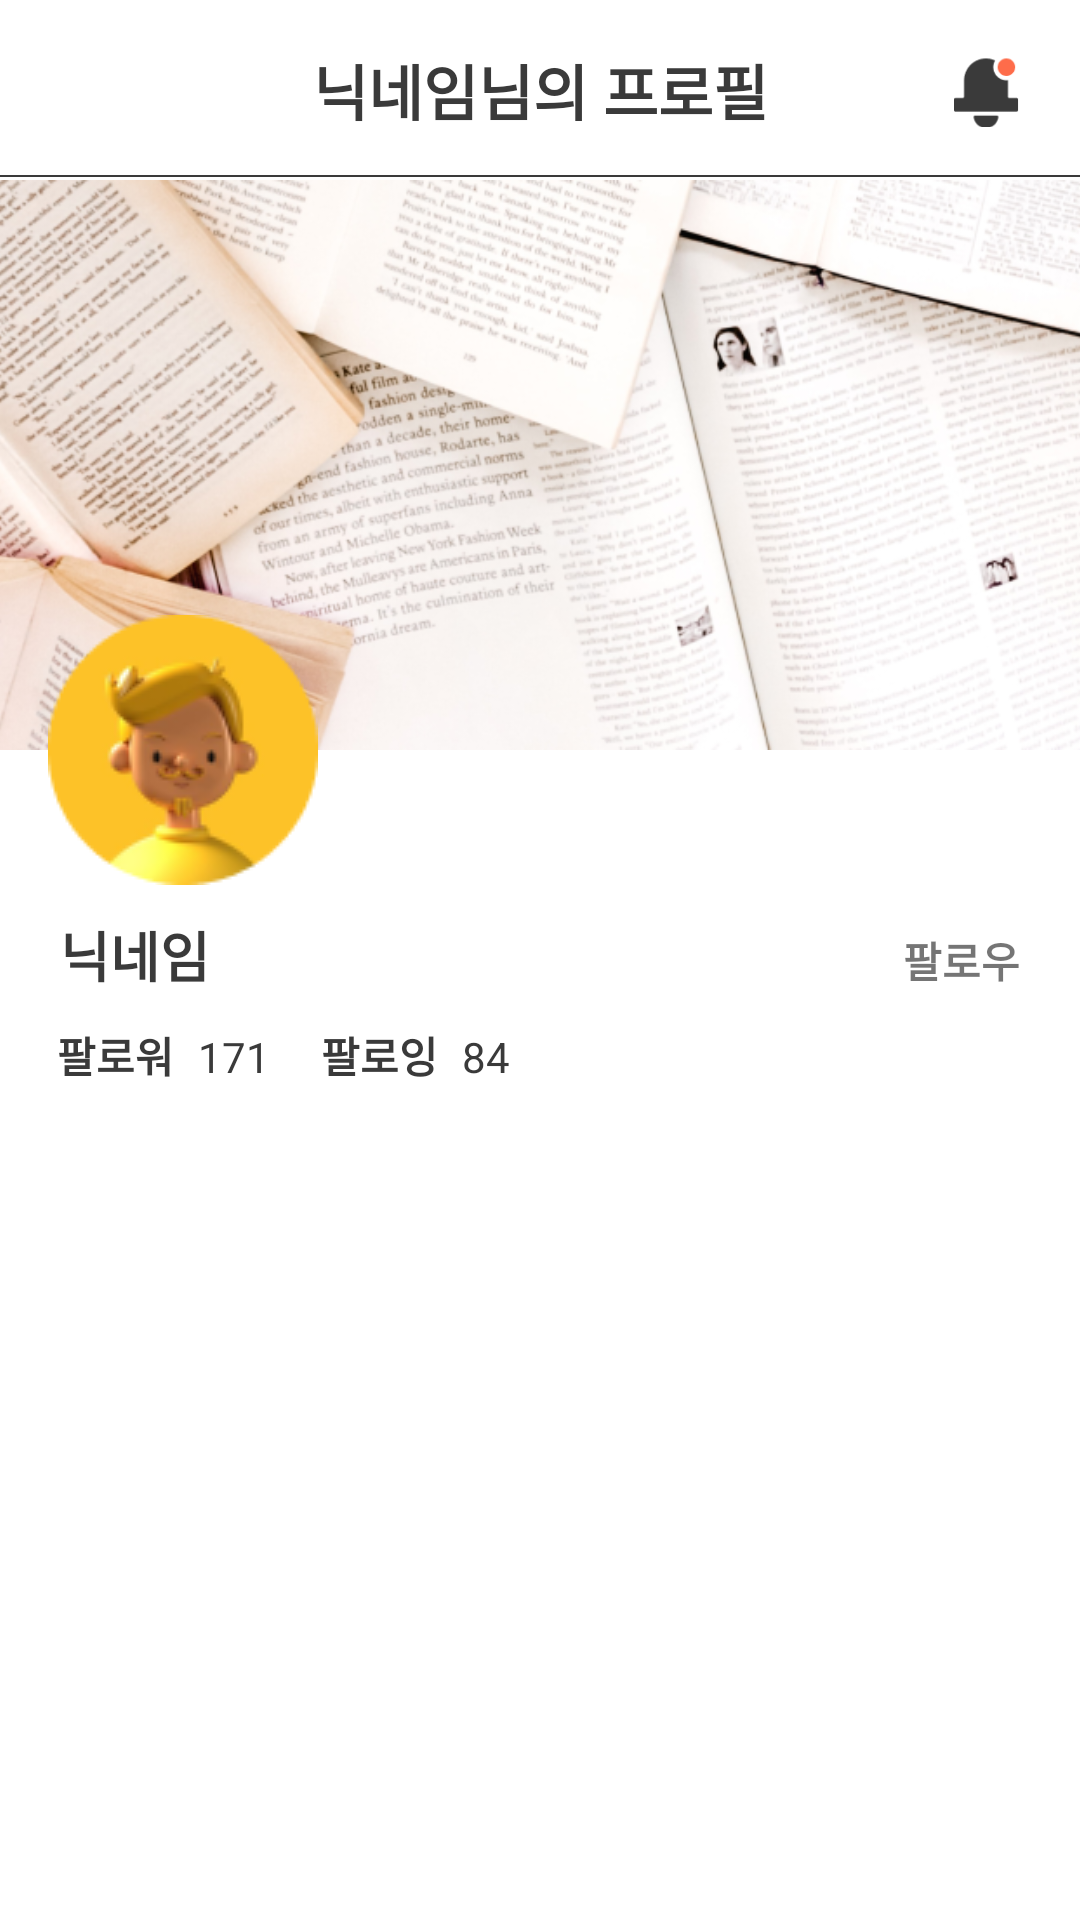

Icons on this 1080×1920 Android screen, each with its box as {"x1": x1, "y1": y1, "x2": x2, "y2": y2}:
alarm: {"x1": 954, "y1": 58, "x2": 1018, "y2": 127}
